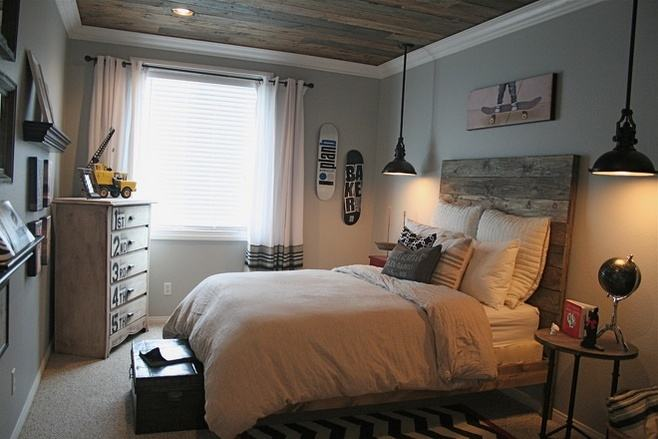床: (163, 261, 550, 425)
枕头: (375, 220, 521, 302)
灯: (608, 3, 646, 164), (596, 255, 645, 354), (390, 45, 408, 178), (167, 6, 193, 20)
